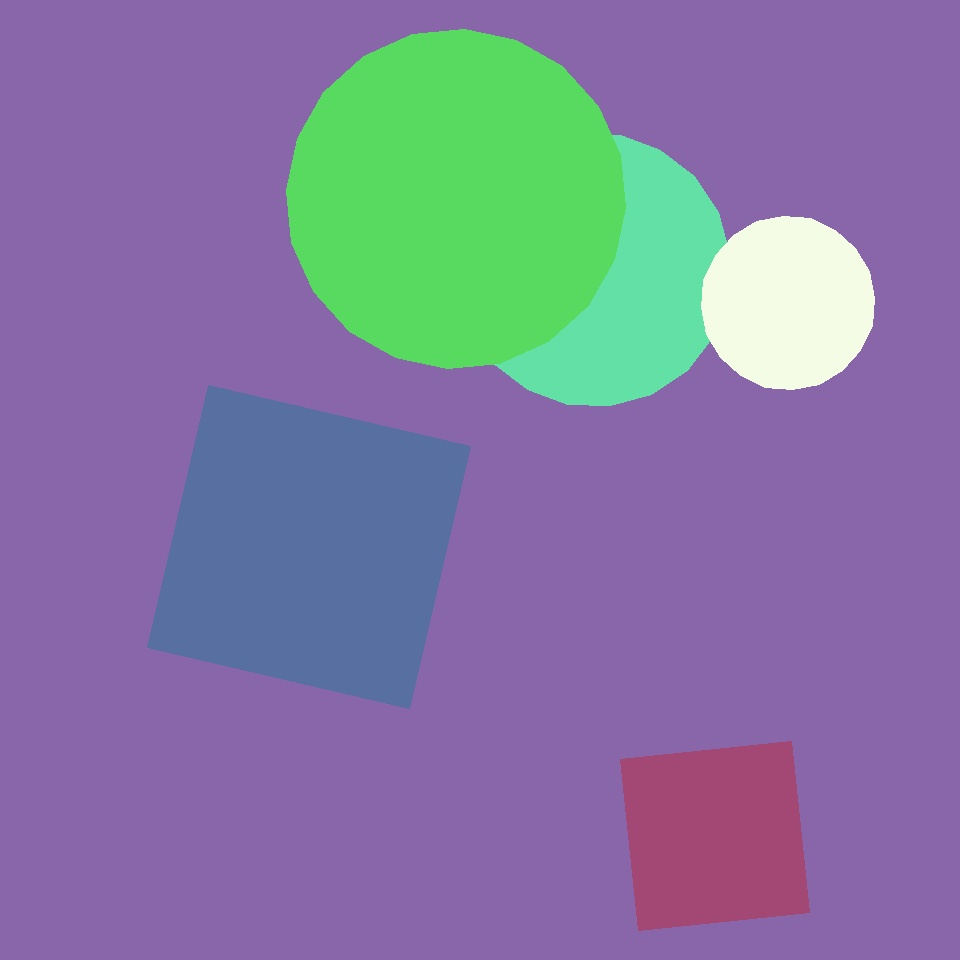circle: (52, 148, 367, 447), (379, 42, 612, 273)
square: (148, 386, 470, 708), (620, 742, 809, 930), (220, 459, 362, 602)
triangle: (286, 30, 626, 369), (459, 134, 730, 406), (702, 216, 874, 390)
